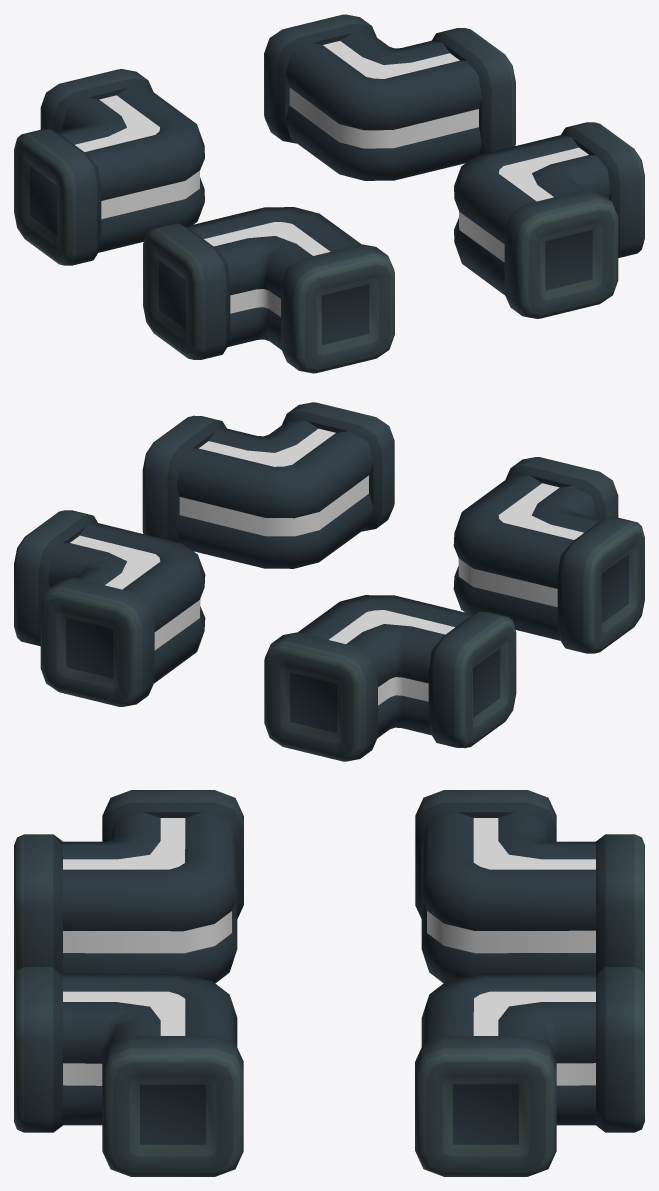
Rendered from Track_Horizontal_Brass_X.fbx.
The picture shows the model from 3 angles, top to bottom: view 1: azimuth 30°, elevation 25°; view 2: azimuth 150°, elevation 25°; view 3: azimuth 270°, elevation 25°; orthographic projection. The views are drawn at different scales.
Parts seen in each view (by area): view 1: Track_Horizontal_Brass_X_LOD0; view 2: Track_Horizontal_Brass_X_LOD0; view 3: Track_Horizontal_Brass_X_LOD0.
Boxes of the visible parts, box(x1,y1,x2,y2) form: Track_Horizontal_Brass_X_LOD0: box(14, 14, 644, 373); Track_Horizontal_Brass_X_LOD0: box(14, 402, 644, 761); Track_Horizontal_Brass_X_LOD0: box(14, 790, 644, 1176).
Size of what is drawn, in the model's own units: 1.01 by 0.2263 by 1.01.
